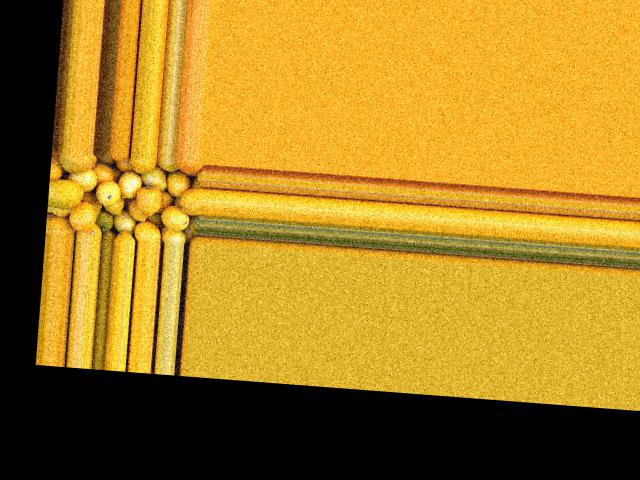lemon: (131, 218, 162, 242)
